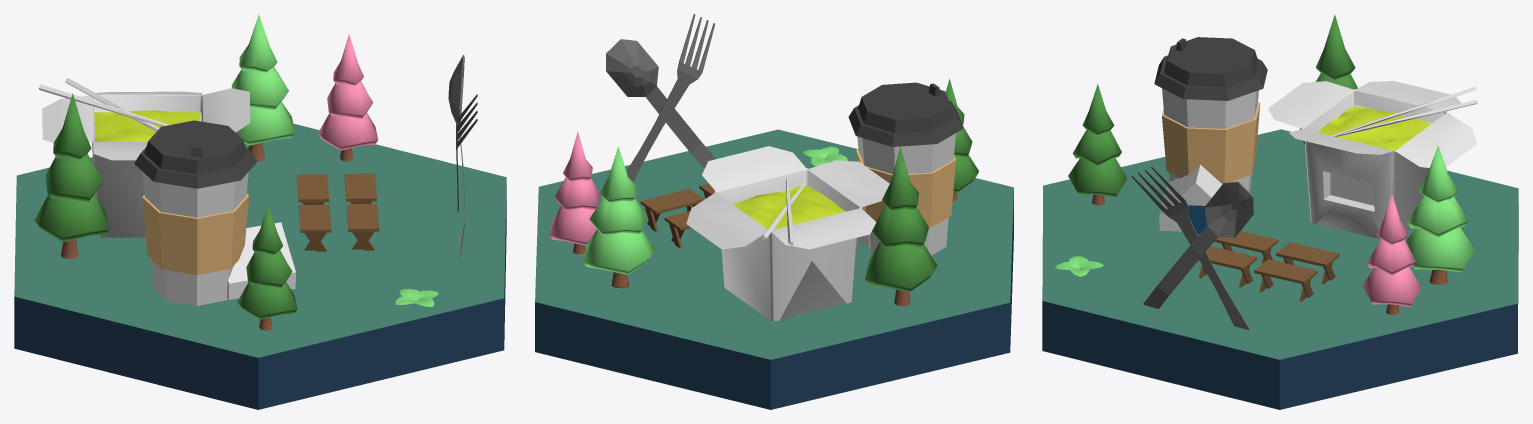
File: Macro - Restaurant lvl 2.fbx
3 views of the same model, side by side, from view 1: azimuth 30°, elevation 25°; view 2: azimuth 150°, elevation 25°; view 3: azimuth 270°, elevation 25° (orthographic). The views are drawn at different scales.
Parts seen in each view (by area): view 1: Cylinder.176, coffee_001.002, Cube.108, Tree_Spruce_tiny_01.001, Tree_Spruce_tiny_01.004, Tree_Spruce_tiny_01.003, Tree_Spruce_tiny_01.002, Cube.003, table.003, table.002, Plane.116, table (+3 smaller); view 2: Cylinder.176, Cube.108, coffee_001.002, Tree_Spruce_tiny_01.001, Tree_Spruce_tiny_01.004, Plane.116, Tree_Spruce_tiny_01.003, Plane.117, Tree_Spruce_tiny_01.002, table.001, Plane.011, table; view 3: Cylinder.176, Cube.108, coffee_001.002, Tree_Spruce_tiny_01.004, Tree_Spruce_tiny_01.002, Tree_Spruce_tiny_01.003, Plane.116, Plane.117, Cube.003, Tree_Spruce_tiny_01.001, table.001, table (+3 smaller).
Part boxes in pixels (x1,y1,x2,y2): Cylinder.176: (14, 123, 506, 409); coffee_001.002: (134, 120, 256, 305); Cube.108: (39, 78, 250, 237); Tree_Spruce_tiny_01.001: (34, 93, 108, 258); Tree_Spruce_tiny_01.004: (231, 14, 295, 161); Tree_Spruce_tiny_01.003: (318, 34, 378, 161); Tree_Spruce_tiny_01.002: (237, 203, 297, 330); Cube.003: (227, 222, 295, 299); table.003: (298, 204, 331, 251); table.002: (346, 204, 379, 250); Plane.116: (448, 55, 464, 257); table: (296, 174, 329, 204); Cylinder.176: (535, 129, 1013, 409); Cube.108: (686, 146, 889, 321); coffee_001.002: (848, 82, 963, 255); Tree_Spruce_tiny_01.001: (865, 146, 937, 306); Tree_Spruce_tiny_01.004: (583, 146, 654, 288); Plane.116: (606, 39, 715, 167); Tree_Spruce_tiny_01.003: (549, 131, 600, 254); Plane.117: (626, 14, 715, 181); Tree_Spruce_tiny_01.002: (945, 79, 978, 201); table.001: (640, 188, 704, 231); Plane.011: (803, 146, 847, 166); table: (664, 211, 691, 248); Cylinder.176: (1042, 129, 1518, 409); Cube.108: (1268, 81, 1477, 238); coffee_001.002: (1154, 37, 1267, 192); Tree_Spruce_tiny_01.004: (1405, 145, 1474, 284); Tree_Spruce_tiny_01.002: (1068, 83, 1127, 205); Tree_Spruce_tiny_01.003: (1362, 194, 1421, 315); Plane.116: (1143, 181, 1254, 308); Plane.117: (1131, 166, 1249, 330); Cube.003: (1159, 164, 1222, 231); Tree_Spruce_tiny_01.001: (1299, 14, 1357, 144); table.001: (1254, 259, 1317, 301); table: (1276, 242, 1339, 284).
Size of the model in its own units: 197 by 82.22 by 172.
